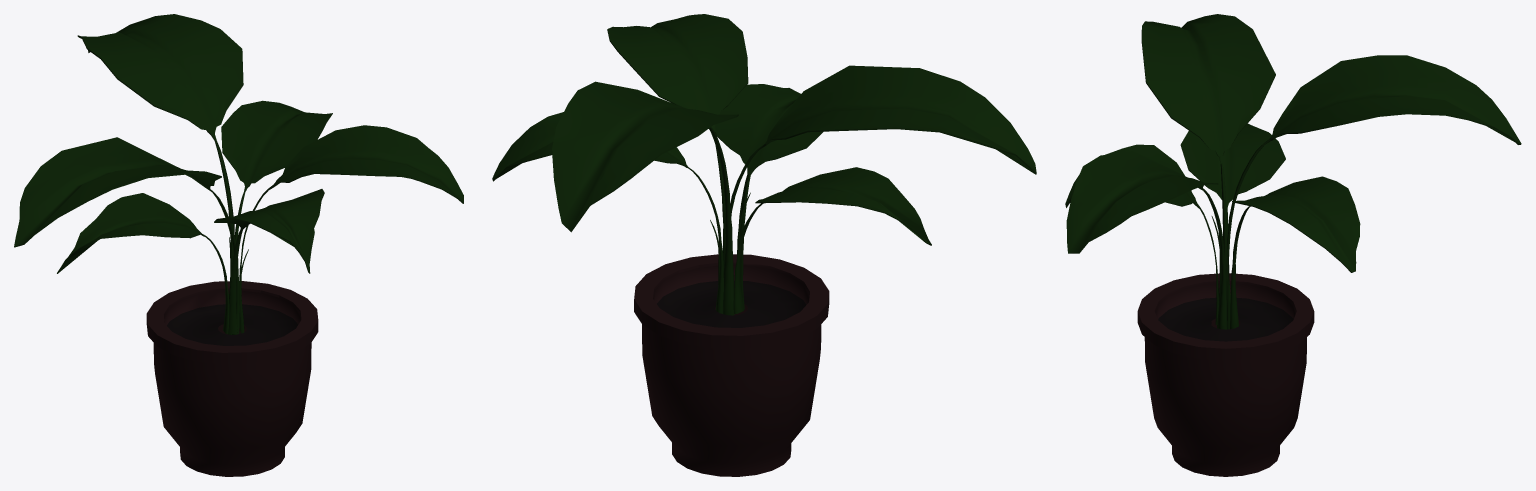
Rendered from Planta.fbx.
3 renders of one model, left to right at view 1: azimuth 30°, elevation 25°; view 2: azimuth 150°, elevation 25°; view 3: azimuth 270°, elevation 25°, orthographic. The views are drawn at different scales.
Visible parts, largest first — view 1: polySurface7, pCylinder1; view 2: polySurface7, pCylinder1; view 3: polySurface7, pCylinder1.
Boxes of the visible parts, x1,y1,x2,y2 form: polySurface7: [14, 14, 463, 334]; pCylinder1: [146, 281, 318, 476]; polySurface7: [492, 14, 1036, 315]; pCylinder1: [634, 254, 829, 476]; polySurface7: [1065, 14, 1521, 329]; pCylinder1: [1137, 273, 1314, 476].
Bounding box in the file's own units: 23.03 × 19.45 × 21.78.
